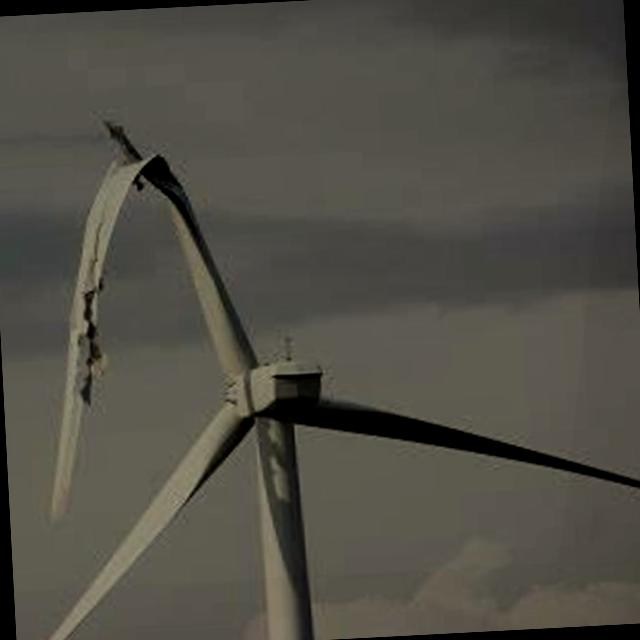crack: (11, 98, 248, 524)
